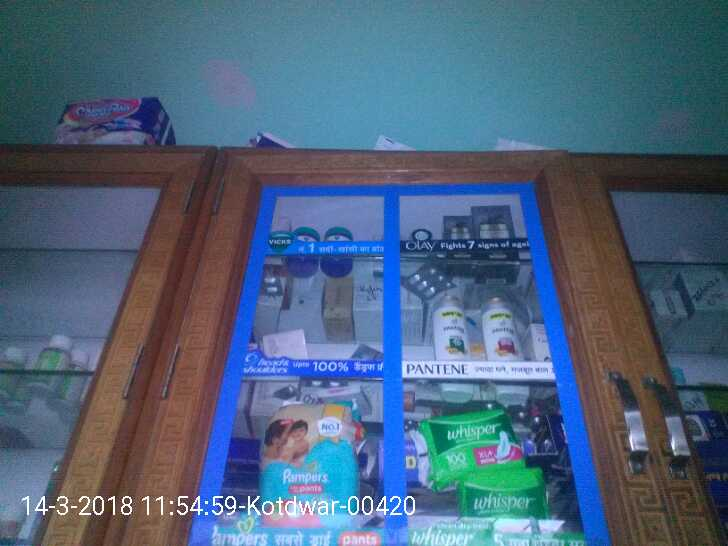vicks: (290, 220, 358, 248)
